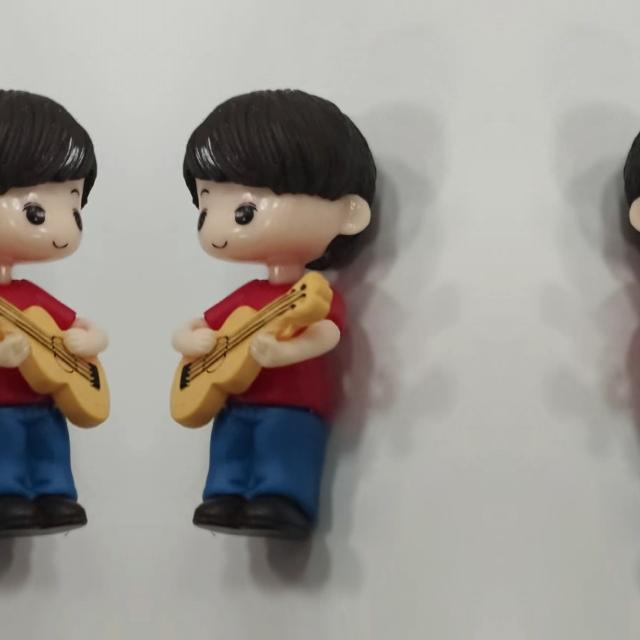man cloth: (194, 280, 354, 422), (0, 279, 85, 422)
man head: (176, 79, 380, 269), (0, 79, 103, 269), (620, 79, 640, 269)
trousers: (192, 407, 342, 555), (0, 407, 88, 555)
